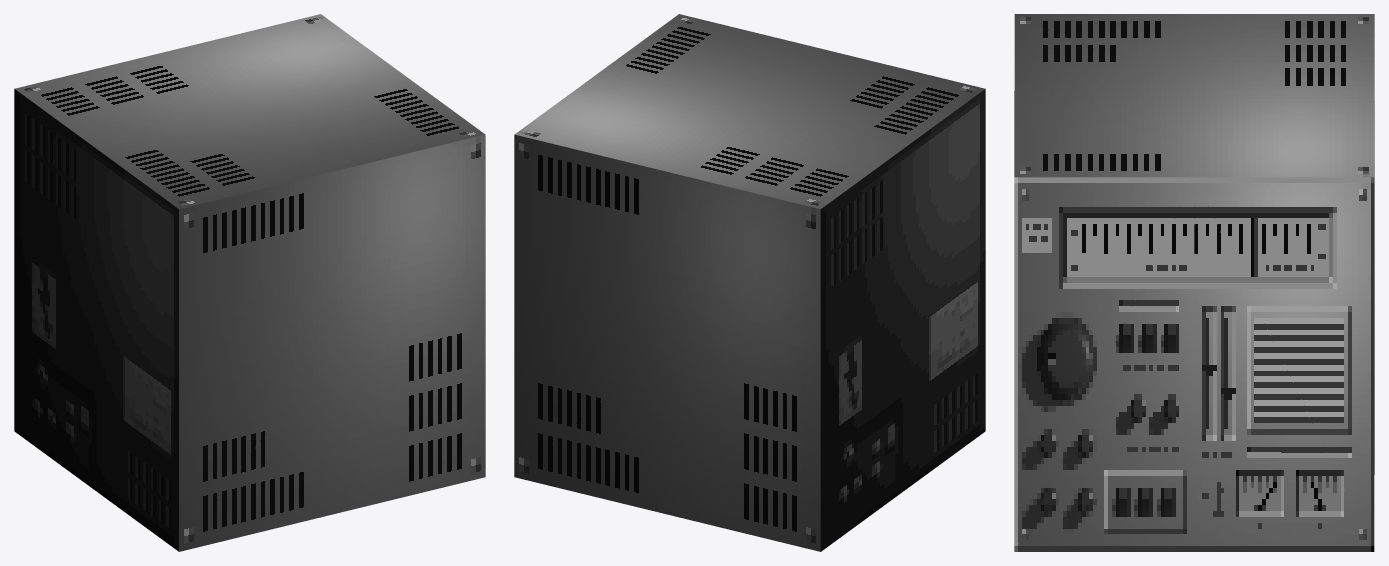
The model's file is primary_091.glb.
3 renders of one model, left to right at view 1: azimuth 30°, elevation 25°; view 2: azimuth 150°, elevation 25°; view 3: azimuth 270°, elevation 25°, orthographic. The views are drawn at different scales.
Parts seen in each view (by area): view 1: Object; view 2: Object; view 3: Object.
Part boxes in pixels (<box>): Object: <box>14,14,485,551</box>; Object: <box>514,14,985,551</box>; Object: <box>1014,14,1374,551</box>.
Size of the model in its own units: 0.7329 by 0.7834 by 0.6824.
6 materials, 6 textured.
